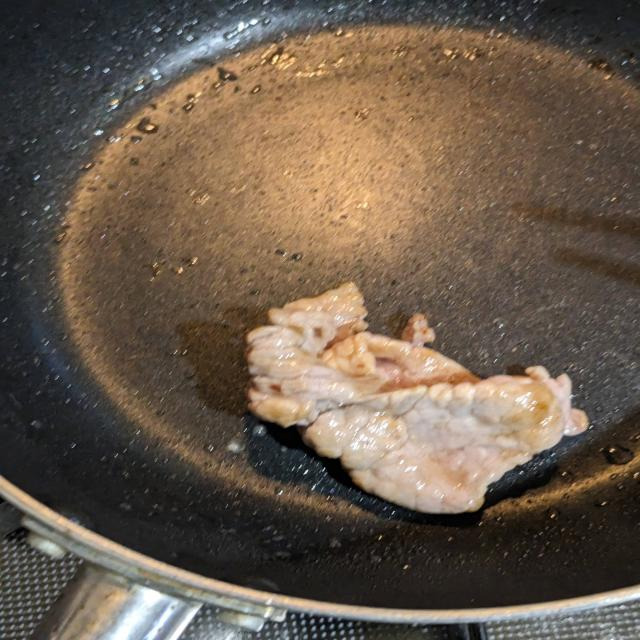OK cooked pork,: (239, 272, 618, 529)
